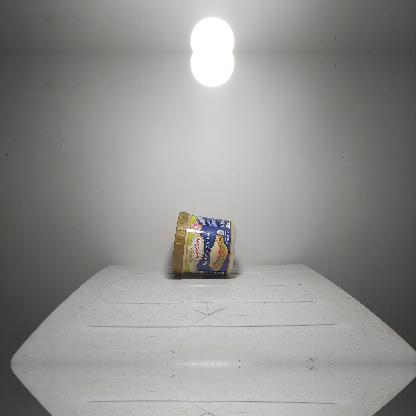Lady-s-Choice: (172, 212, 235, 274)
